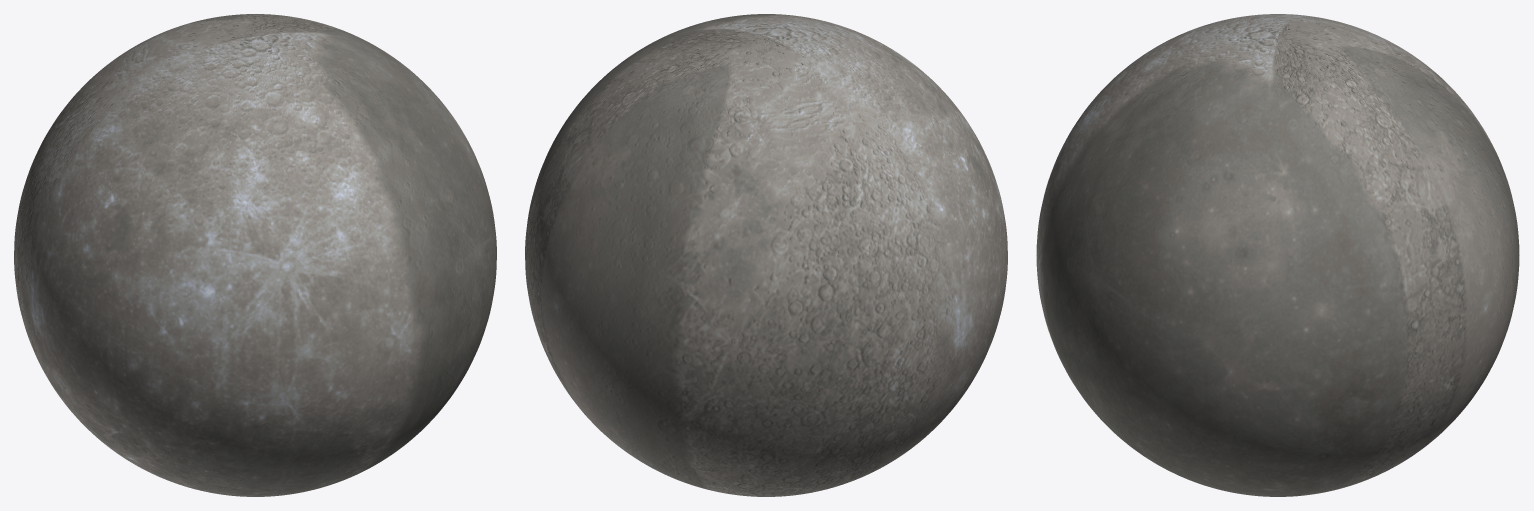
Rendered from mercure.glb.
The picture shows the model from 3 angles, left to right: view 1: azimuth 30°, elevation 25°; view 2: azimuth 150°, elevation 25°; view 3: azimuth 270°, elevation 25°; orthographic projection.
Visible parts, largest first — view 1: Sphere_0; view 2: Sphere_0; view 3: Sphere_0.
Boxes of the visible parts, x1,y1,x2,y2 form: Sphere_0: (14,14,496,496); Sphere_0: (525,14,1007,496); Sphere_0: (1036,14,1519,496).
Bounding box in the file's own units: 4.43 × 4.43 × 4.43.
1 material, 1 textured.
